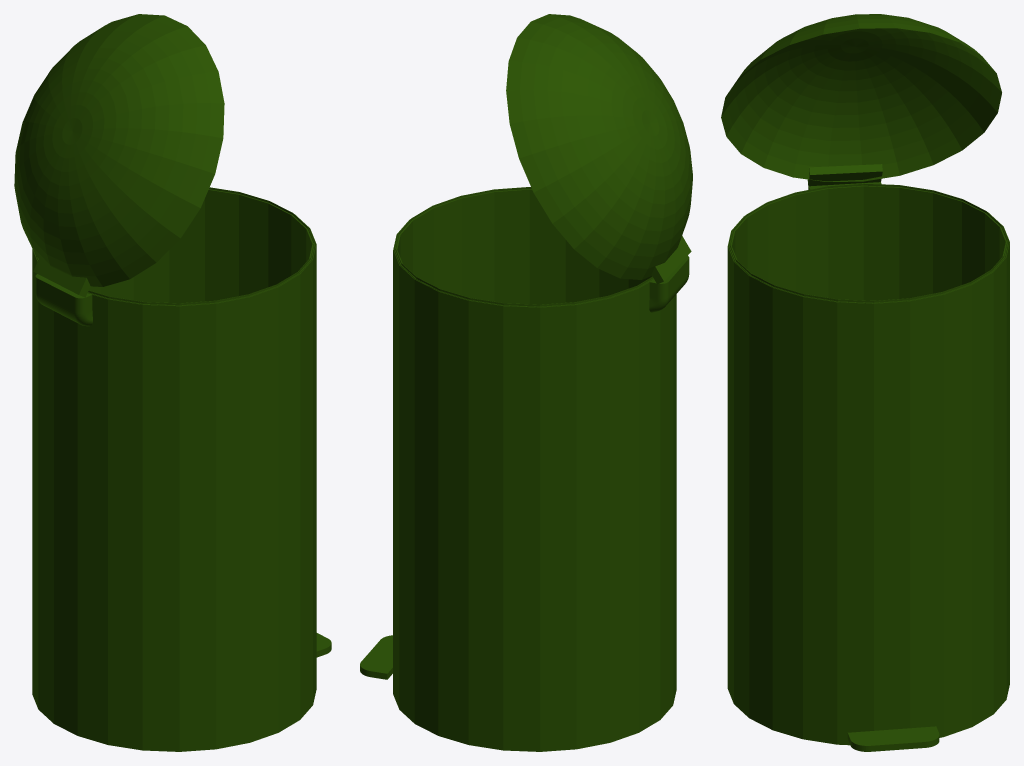
3 views of the same model, side by side, from view 1: azimuth 30°, elevation 25°; view 2: azimuth 150°, elevation 25°; view 3: azimuth 270°, elevation 25° (orthographic).
Parts seen in each view (by area): view 1: mesh4_mesh4-geometry, mesh1_mesh1-geometry; view 2: mesh4_mesh4-geometry, mesh1_mesh1-geometry; view 3: mesh4_mesh4-geometry, mesh1_mesh1-geometry.
Boxes of the visible parts, x1=… form: mesh4_mesh4-geometry: x1=32, y1=187, x2=331, y2=751; mesh1_mesh1-geometry: x1=14, y1=14, x2=224, y2=297; mesh4_mesh4-geometry: x1=360, y1=187, x2=689, y2=751; mesh1_mesh1-geometry: x1=506, y1=14, x2=692, y2=284; mesh4_mesh4-geometry: x1=727, y1=182, x2=1009, y2=751; mesh1_mesh1-geometry: x1=721, y1=14, x2=1001, y2=186.
Bounding box in the file's own units: 0.3899 × 0.8563 × 0.3387.
